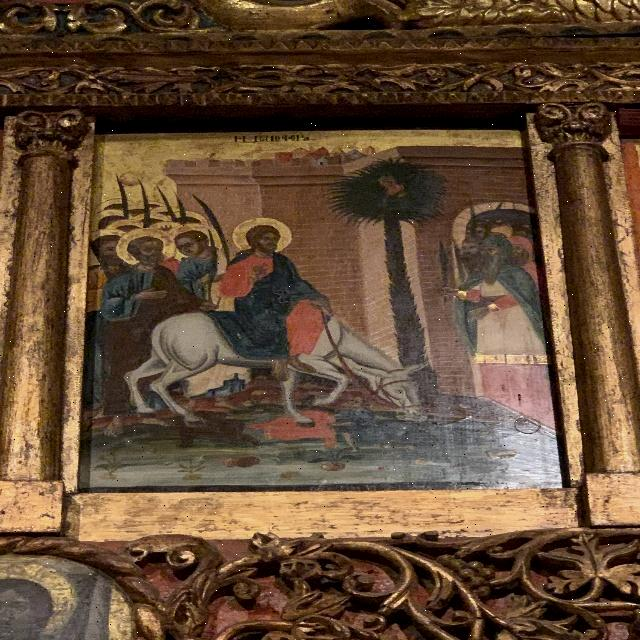aura: (118, 227, 176, 267), (231, 217, 293, 252), (174, 224, 219, 261)
christ: (221, 217, 305, 350)
donkey: (123, 289, 428, 430)
palm: (327, 160, 467, 420)
saint: (102, 231, 181, 403)
